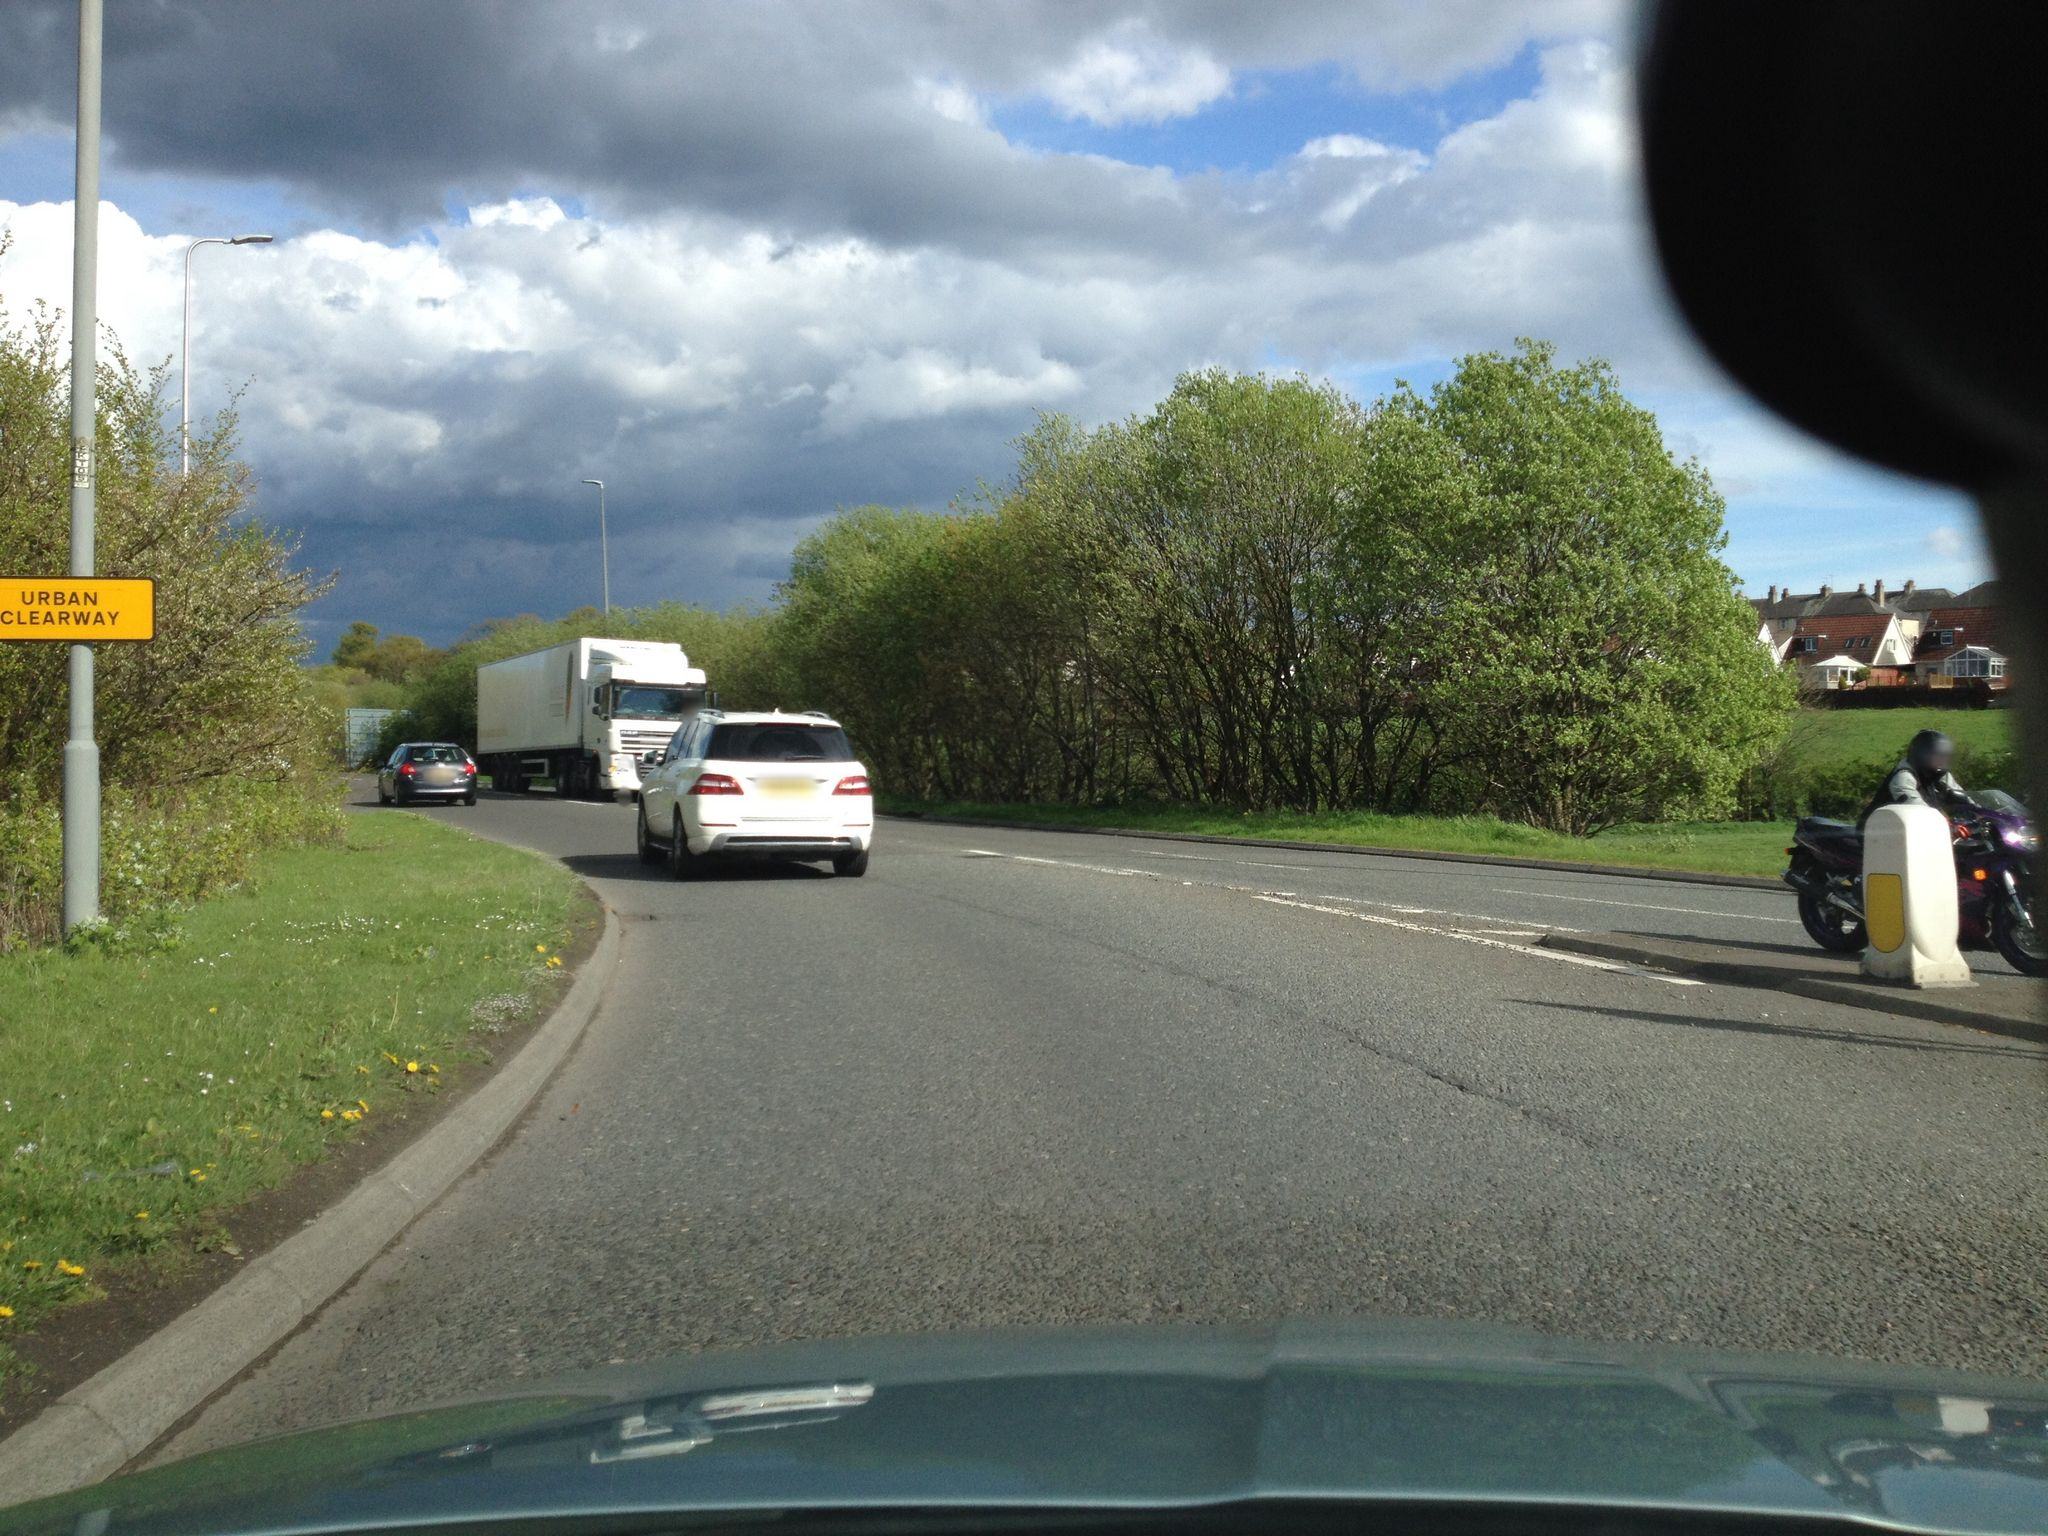car: (639, 708, 876, 878), (377, 741, 477, 807)
motorcycle: (1787, 795, 2042, 966)
truck: (476, 636, 721, 805)
